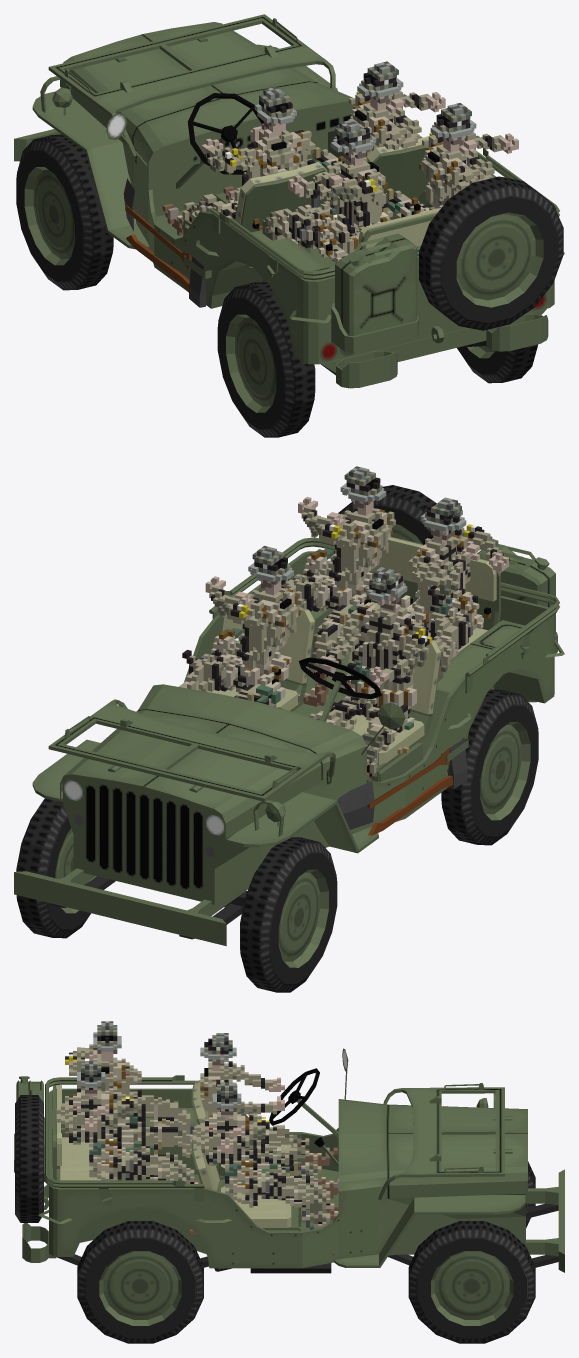
The model's file is jeep.glb.
3 views of the same model, one above another, from view 1: azimuth 30°, elevation 25°; view 2: azimuth 150°, elevation 25°; view 3: azimuth 270°, elevation 25° (orthographic). The views are drawn at different scales.
Parts seen in each view (by area): view 1: 00_chassis_willys_mb_chassis_no_gun.mesh, 02_tire_index_0_willys_mb_wheel_no_gun.mesh, 04_tire_index_2_willys_mb_wheel_no_gun.mesh, crew_soldier_SLOT_02_PASSENGER, crew_soldier_SLOT_00_DRIVER, crew_soldier_SLOT_03_PASSENGER, crew_soldier_SLOT_01_PASSENGER, 05_tire_index_3_willys_mb_wheel_no_gun.mesh; view 2: 00_chassis_willys_mb_chassis_no_gun.mesh, 02_tire_index_0_willys_mb_wheel_no_gun.mesh, crew_soldier_SLOT_00_DRIVER, crew_soldier_SLOT_03_PASSENGER, crew_soldier_SLOT_01_PASSENGER, 04_tire_index_2_willys_mb_wheel_no_gun.mesh, crew_soldier_SLOT_02_PASSENGER, 03_tire_index_1_willys_mb_wheel_no_gun.mesh; view 3: 00_chassis_willys_mb_chassis_no_gun.mesh, 03_tire_index_1_willys_mb_wheel_no_gun.mesh, 05_tire_index_3_willys_mb_wheel_no_gun.mesh, crew_soldier_SLOT_01_PASSENGER, crew_soldier_SLOT_03_PASSENGER, crew_soldier_SLOT_02_PASSENGER, crew_soldier_SLOT_00_DRIVER.
Part boxes in pixels (x1,y1,x2,y2): 00_chassis_willys_mb_chassis_no_gun.mesh: (14,14,564,388); 02_tire_index_0_willys_mb_wheel_no_gun.mesh: (16,134,113,290); 04_tire_index_2_willys_mb_wheel_no_gun.mesh: (217,282,315,437); crew_soldier_SLOT_02_PASSENGER: (249,119,389,267); crew_soldier_SLOT_00_DRIVER: (162,87,315,235); crew_soldier_SLOT_03_PASSENGER: (382,103,518,220); crew_soldier_SLOT_01_PASSENGER: (307,61,445,169); 05_tire_index_3_willys_mb_wheel_no_gun.mesh: (457,344,537,383); 00_chassis_willys_mb_chassis_no_gun.mesh: (14,485,564,946); 02_tire_index_0_willys_mb_wheel_no_gun.mesh: (240,837,337,992); crew_soldier_SLOT_00_DRIVER: (309,567,432,776); crew_soldier_SLOT_03_PASSENGER: (281,466,395,706); crew_soldier_SLOT_01_PASSENGER: (179,545,303,706); 04_tire_index_2_willys_mb_wheel_no_gun.mesh: (441,689,538,845); crew_soldier_SLOT_02_PASSENGER: (401,497,508,681); 03_tire_index_1_willys_mb_wheel_no_gun.mesh: (16,798,96,938); 00_chassis_willys_mb_chassis_no_gun.mesh: (14,1048,564,1273); 03_tire_index_1_willys_mb_wheel_no_gun.mesh: (408,1221,535,1343); 05_tire_index_3_willys_mb_wheel_no_gun.mesh: (77,1221,203,1343); crew_soldier_SLOT_01_PASSENGER: (192,1082,338,1256); crew_soldier_SLOT_03_PASSENGER: (56,1061,198,1234); crew_soldier_SLOT_02_PASSENGER: (65,1021,196,1157); crew_soldier_SLOT_00_DRIVER: (200,1033,338,1198).
Bounding box in the file's own units: 2.1 × 2.14 × 4.26.
37 materials, 1 textured.
